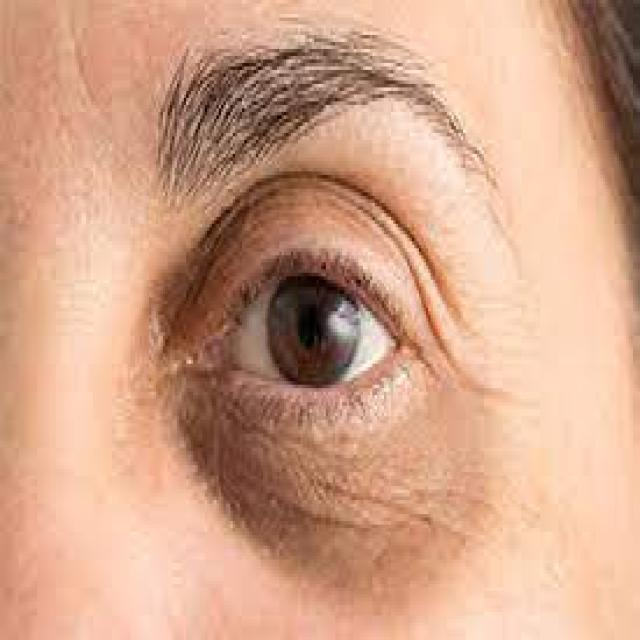Eyebags: (166, 386, 451, 560)
